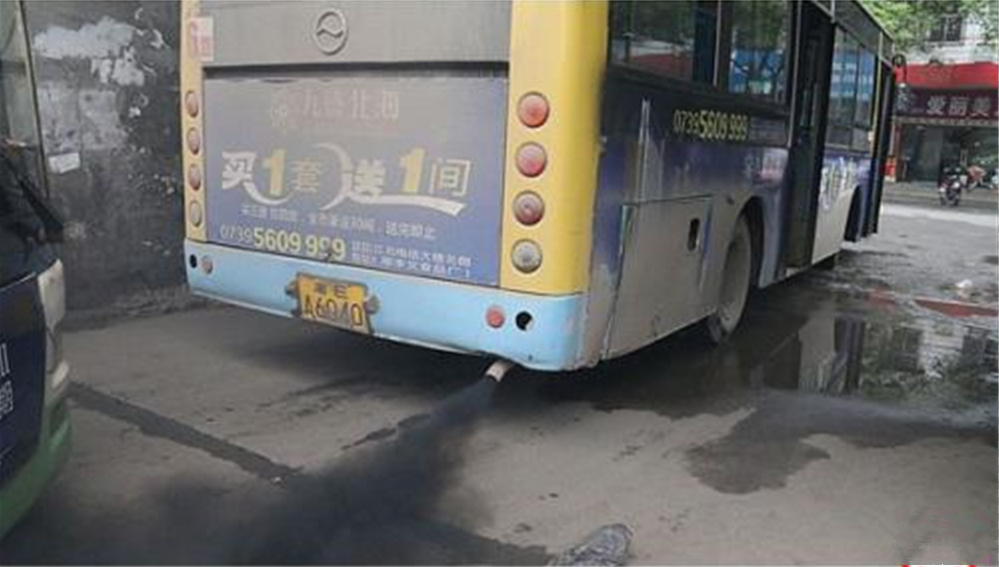smoke: (163, 378, 503, 567)
